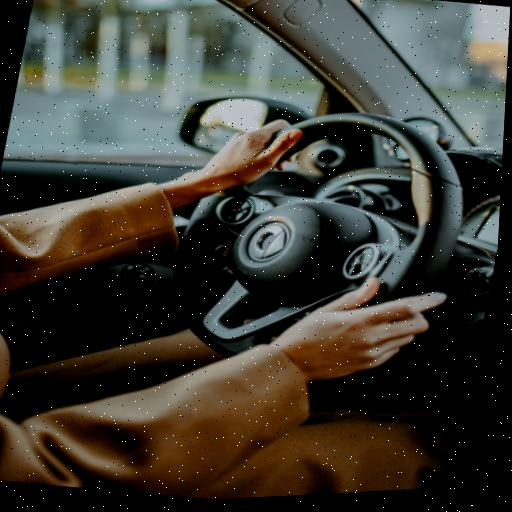Hands-on-the-Wheel: (255, 247, 463, 400), (163, 90, 370, 231)
